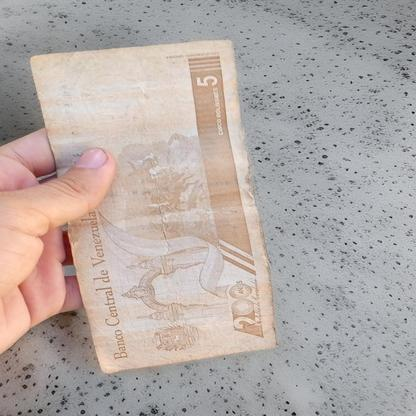vef_back: (30, 39, 276, 373)
